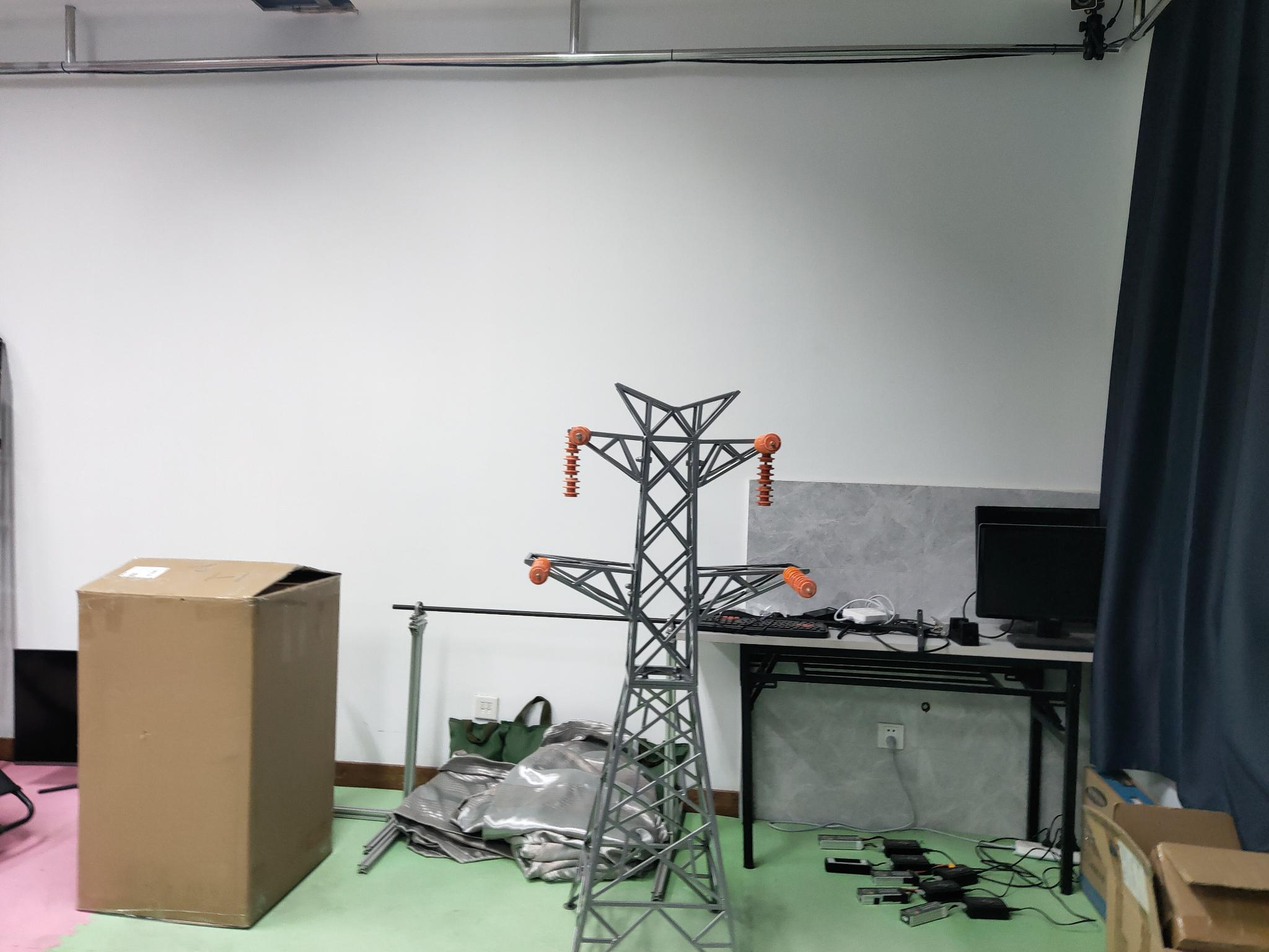tower: (525, 383, 808, 952)
